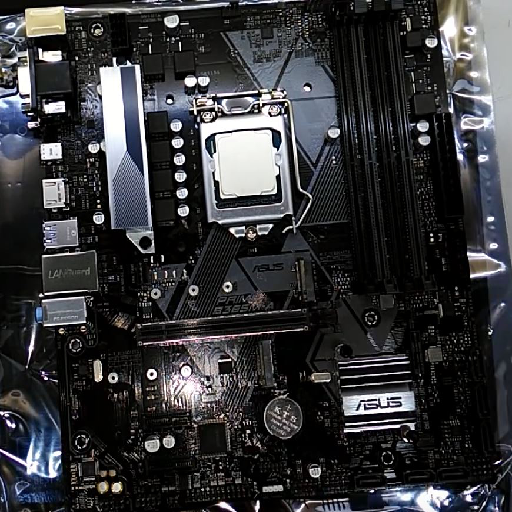CPU: (193, 90, 295, 237)
GPU: (134, 299, 337, 351)
MOTHERBOARD: (23, 1, 497, 512)
RAM: (327, 1, 442, 290)
SSD: (254, 339, 281, 386), (293, 258, 320, 304)
